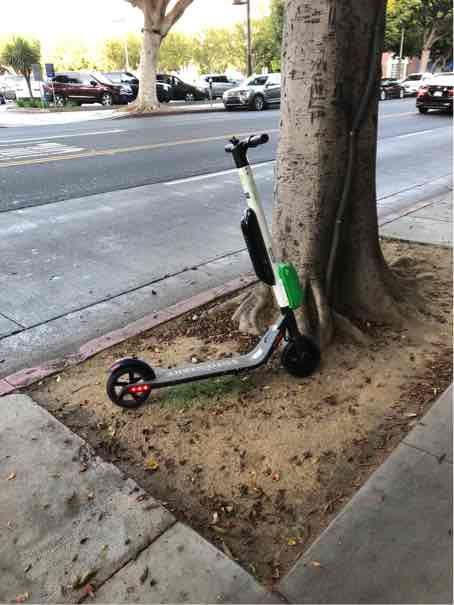scooter: (100, 127, 320, 418)
